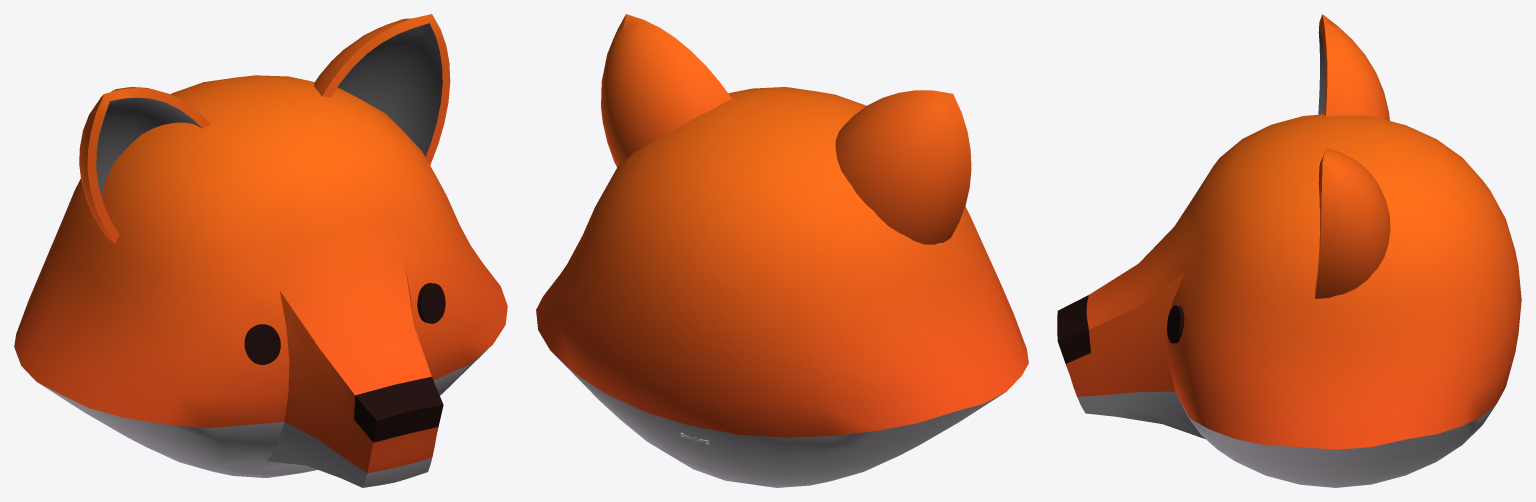
The model's file is fox.gltf.
3 renders of one model, left to right at view 1: azimuth 30°, elevation 25°; view 2: azimuth 150°, elevation 25°; view 3: azimuth 270°, elevation 25°, orthographic. The views are drawn at different scales.
Visible parts, largest first — view 1: Cube.6185, Cube.6186, Circle.1846; view 2: Cube.6185, Cube.6186; view 3: Cube.6185, Cube.6186, Circle.1846.
Part boxes in pixels (box(x1,y1,x2,y2)): Cube.6185: box(14, 75, 507, 487); Cube.6186: box(79, 14, 450, 244); Circle.1846: box(244, 283, 445, 364); Cube.6185: box(536, 87, 1028, 487); Cube.6186: box(601, 14, 971, 244); Cube.6185: box(1057, 114, 1521, 487); Cube.6186: box(1315, 14, 1390, 298); Circle.1846: box(1167, 305, 1184, 343).
Size of the model in its own units: 2.18 by 1.89 by 2.1.
Materials: 5 (2 with a texture image).
